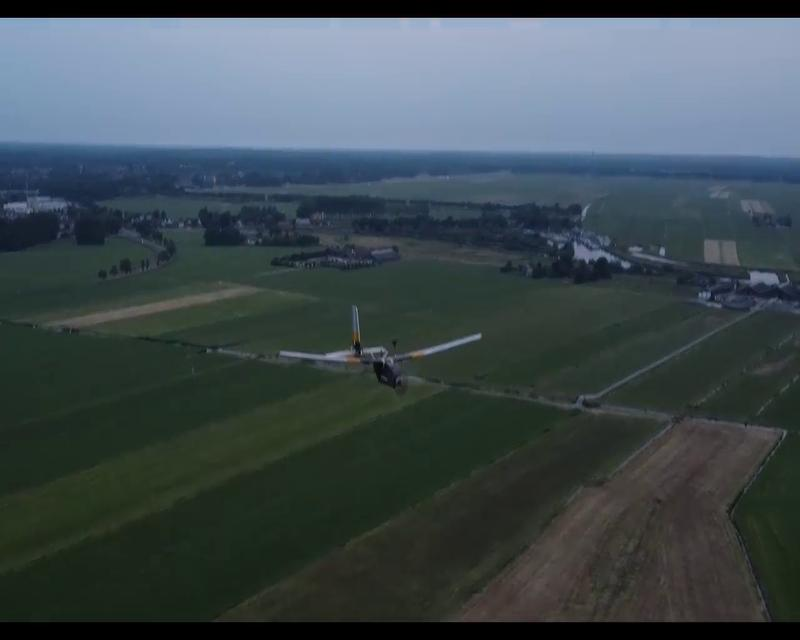UAV: (282, 306, 484, 390)
